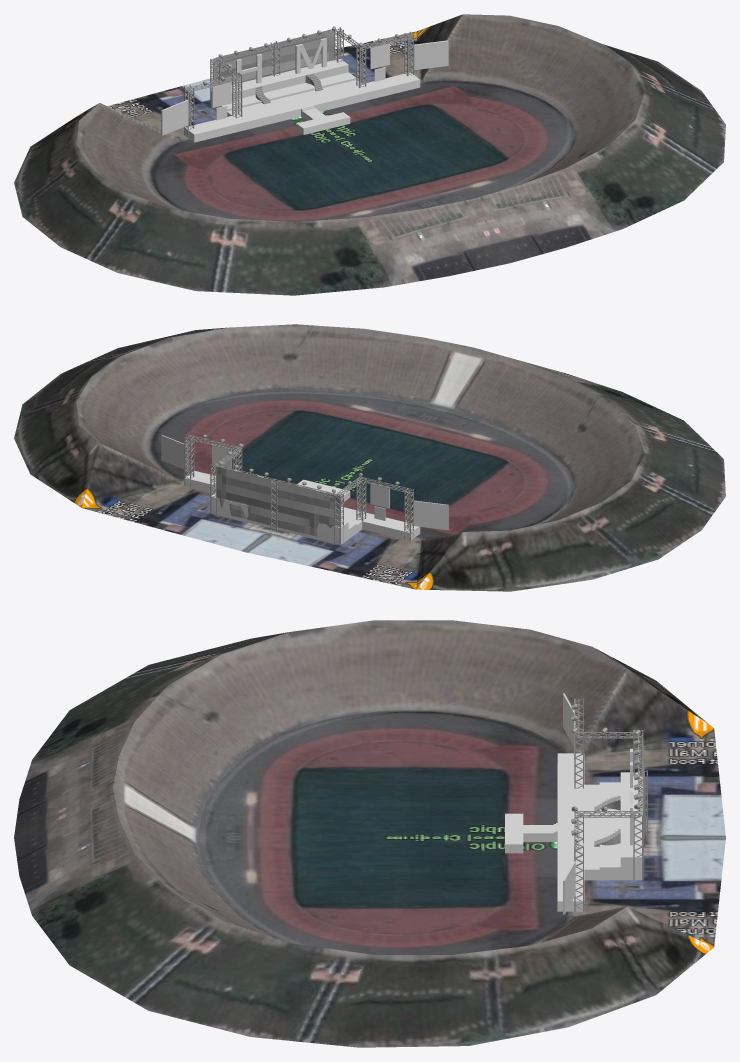
The model's file is Stage.fbx.
The picture shows the model from 3 angles, top to bottom: view 1: azimuth 30°, elevation 25°; view 2: azimuth 150°, elevation 25°; view 3: azimuth 270°, elevation 25°; orthographic projection. The views are drawn at different scales.
Parts seen in each view (by area): view 1: Stadium, Stage, polySurface111, typeMesh1, Cube10, Cube9; view 2: Stadium, polySurface111, Stage, Cube9, Cube10, polySurface98; view 3: Stadium, Stage.
Part boxes in pixels (<box>): Stadium: <box>14,14,725,295</box>; Stage: <box>185,59,420,142</box>; polySurface111: <box>212,29,334,84</box>; typeMesh1: <box>236,38,326,87</box>; Cube10: <box>414,40,448,70</box>; Cube9: <box>161,100,188,135</box>; Stadium: <box>14,324,725,591</box>; polySurface111: <box>216,467,339,536</box>; Stage: <box>184,470,420,544</box>; Cube9: <box>413,500,448,530</box>; Cube10: <box>161,435,187,470</box>; polySurface98: <box>184,434,194,487</box>; Stadium: <box>14,620,725,1047</box>; Stage: <box>505,753,642,911</box>.
Size of the model in its own units: 11764 by 923 by 8433.
